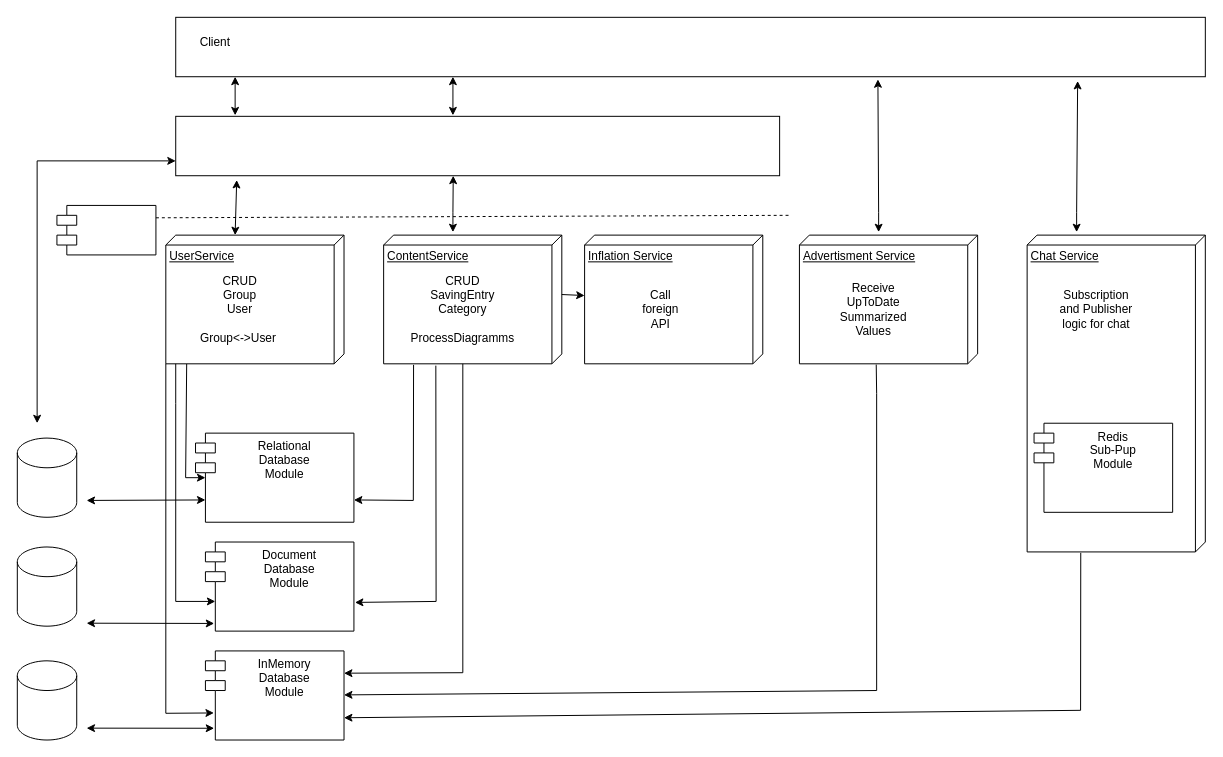
Image size: 1223x757. Some labels were removed from this diagram. The centre of each missing label's shape, as x and y in pixels:
"DTO & Validation" goes at (x=106, y=229).
"Keycloak" goes at (x=477, y=145).
"MongoDB" goes at (x=46, y=586).
"PostgreSql" goes at (x=46, y=477).
"Redis" goes at (x=46, y=700).
